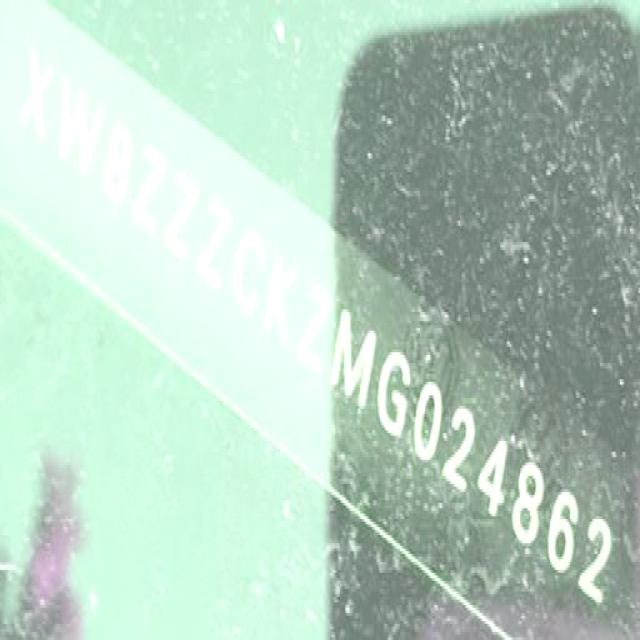0: (403, 363, 450, 477)
2: (438, 389, 481, 501), (575, 505, 614, 621)
4: (471, 412, 517, 531)
6: (536, 472, 585, 593)
8: (92, 102, 139, 218), (505, 448, 552, 564)
C: (224, 213, 273, 326)
G: (369, 332, 415, 455)
K: (258, 242, 304, 360)
M: (324, 291, 384, 425)
W: (44, 66, 107, 189)
X: (13, 38, 60, 147)
Z: (290, 264, 339, 384), (157, 157, 205, 272), (126, 132, 173, 247), (190, 186, 238, 296)
